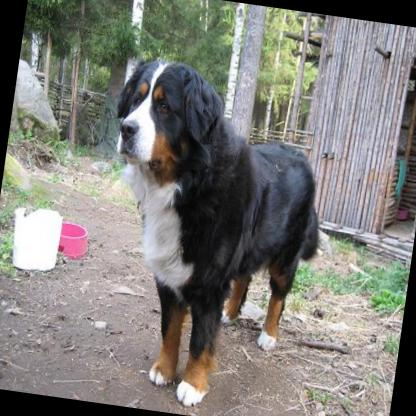Bernese_mountain_dog: (75, 51, 340, 416)
